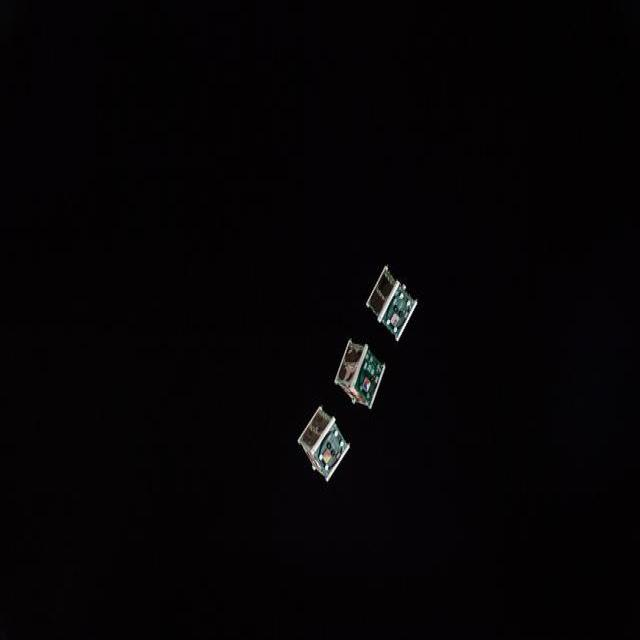satellite: (296, 402, 349, 481), (366, 264, 412, 347), (337, 344, 385, 414)
